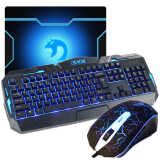keyboard: (3, 54, 158, 133)
mouse: (86, 100, 158, 156)
